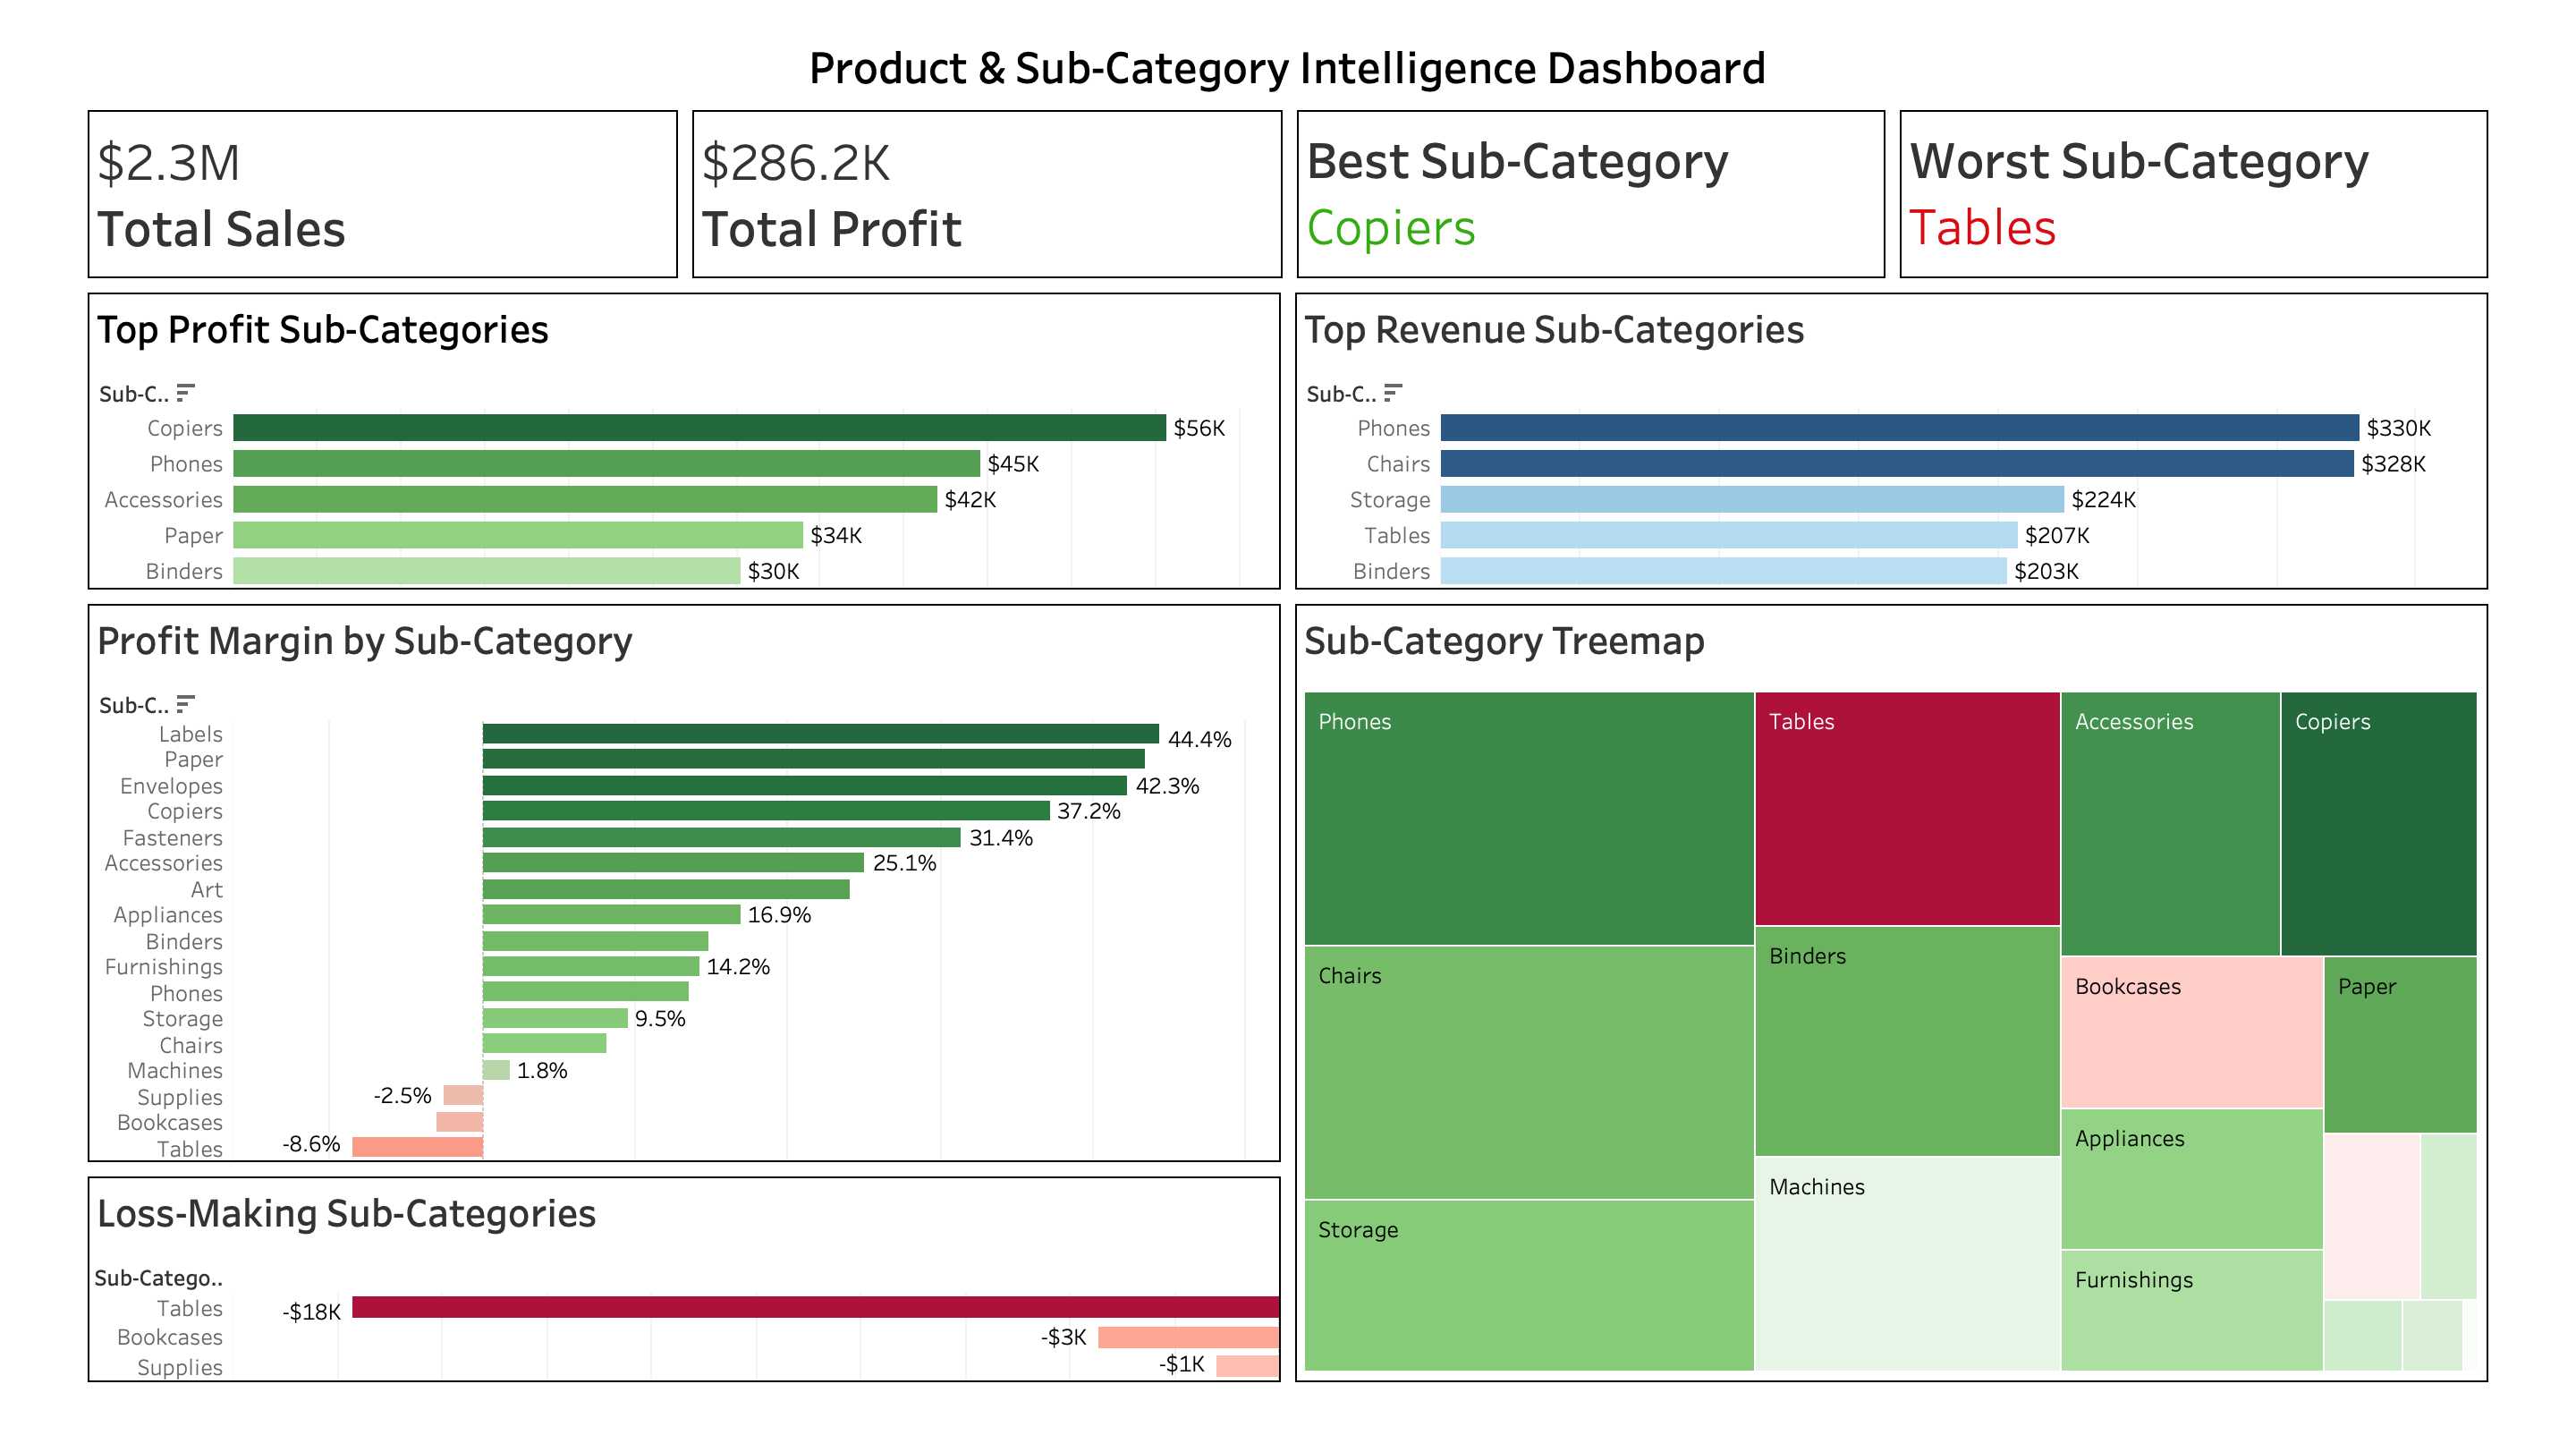

Layout of this report page (visuals, bound fields, positions):
{"tool":"tableau","page":{"name":"Product & Sub-Category Intelligence Dashboard","canvas":[1366,768],"ordinal":2},"visuals":[{"type":"text","box":[8,8,1350,33]},{"type":"worksheet","title":"KPI - Total Sales","mark":"Automatic","box":[8,41,338,96]},{"type":"worksheet","title":"KPI - Total Profit","mark":"Automatic","box":[346,41,338,96]},{"type":"worksheet","title":"KPI - Best Sub-Category","mark":"Automatic","rows":["Sub-Category"],"box":[684,41,337,96]},{"type":"worksheet","title":"KPI - Worst Sub-Category","mark":"Automatic","rows":["Sub-Category"],"box":[1021,41,337,96]},{"type":"worksheet","title":"Top 5 Sub-Categories by Profit","mark":"Automatic","rows":["Sub-Category"],"cols":["Profit"],"box":[8,137,675,174]},{"type":"worksheet","title":"Top 5 Sub-Categories by Sales","mark":"Automatic","rows":["Sub-Category"],"cols":["Sales"],"box":[683,137,675,174]},{"type":"worksheet","title":"Profit Margin by Sub-Category","mark":"Automatic","rows":["Sub-Category"],"cols":["Calculation_2353651724660736"],"box":[8,311,631,327]},{"type":"worksheet","title":"Sub-Category Treemap","mark":"Automatic","box":[639,311,719,449]},{"type":"worksheet","title":"Bottom Sub-Categories by Profit","mark":"Automatic","rows":["Sub-Category"],"cols":["Profit"],"box":[8,638,631,122]}]}

Visuals, with their boxes in screenshot pixels (x1, y1, x2, y2), scaled from the page's 1366x768 canvas onto the 2576x1452 screenshot:
text: 15 15 2561 78
"KPI - Total Sales" worksheet: 15 78 652 259
"KPI - Total Profit" worksheet: 652 78 1290 259
"KPI - Best Sub-Category" worksheet: 1290 78 1926 259
"KPI - Worst Sub-Category" worksheet: 1926 78 2561 259
"Top 5 Sub-Categories by Profit" worksheet: 15 259 1288 588
"Top 5 Sub-Categories by Sales" worksheet: 1288 259 2561 588
"Profit Margin by Sub-Category" worksheet: 15 588 1205 1206
"Sub-Category Treemap" worksheet: 1205 588 2561 1437
"Bottom Sub-Categories by Profit" worksheet: 15 1206 1205 1437
